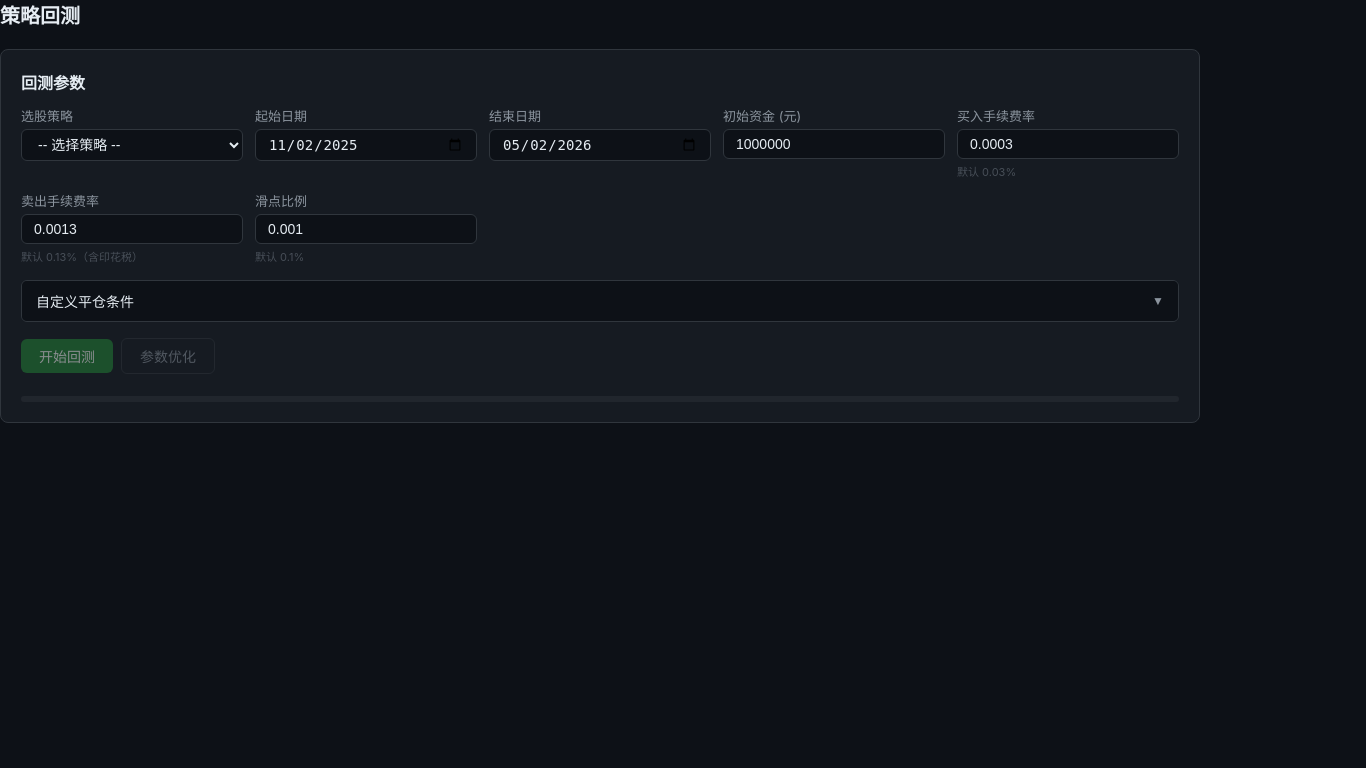
Test: BacktestView - 模版管理 › 点击"保存为模版"弹出保存对话框
Click the button "自定义平仓条件 ▼" at {"x": 85, "y": 302}, box top-left (22, 281), bottom-right (1178, 321)
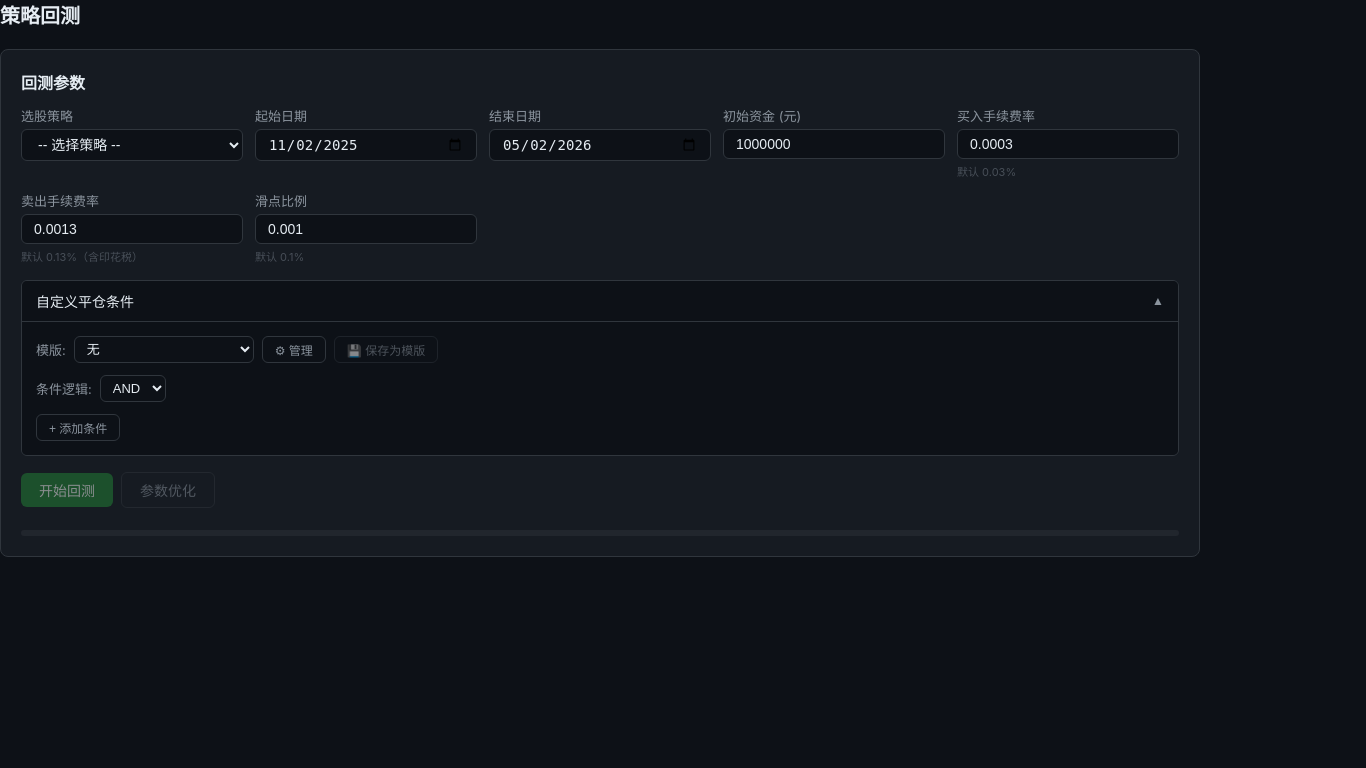
Click the button with aria-label "添加平仓条件" at {"x": 78, "y": 428}, box top-left (36, 414), bottom-right (120, 441)
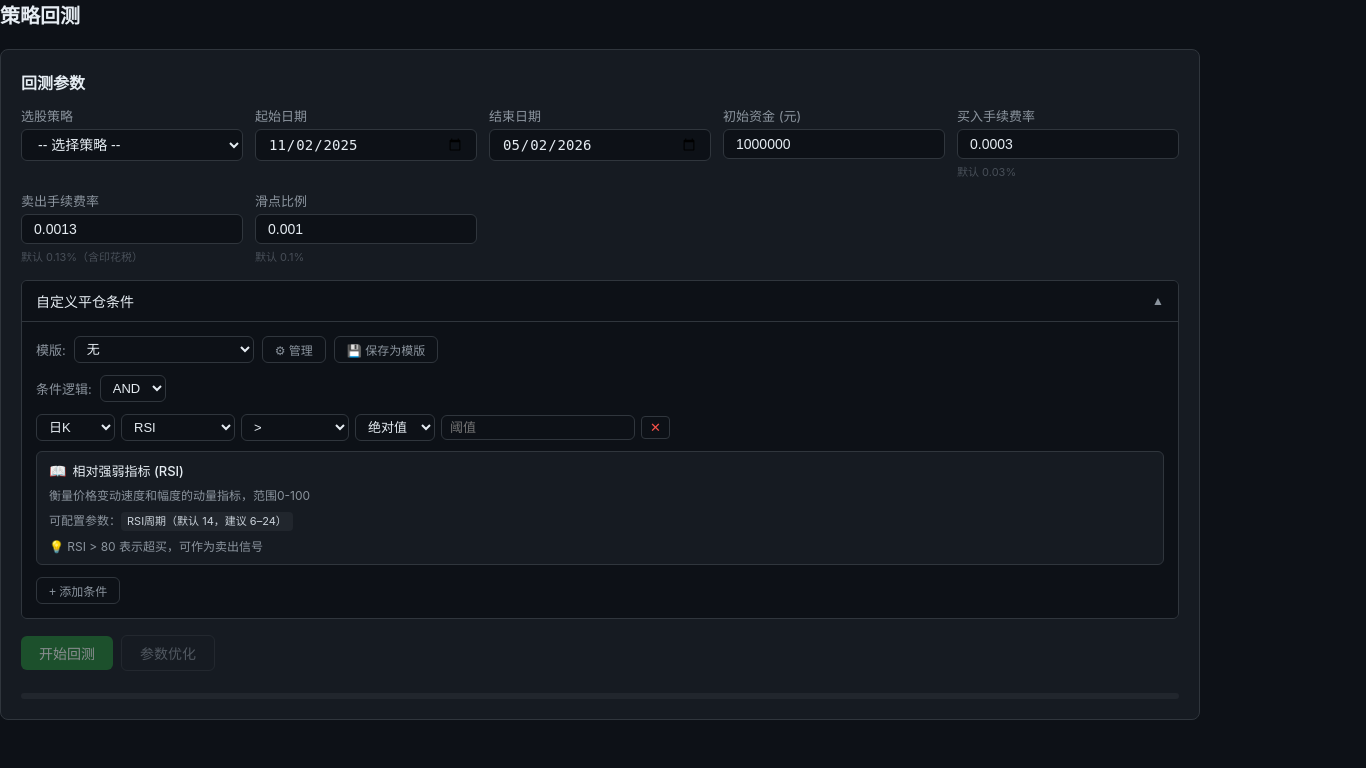
Click the button with aria-label "保存为模版" at {"x": 386, "y": 350}, box top-left (334, 336), bottom-right (438, 363)
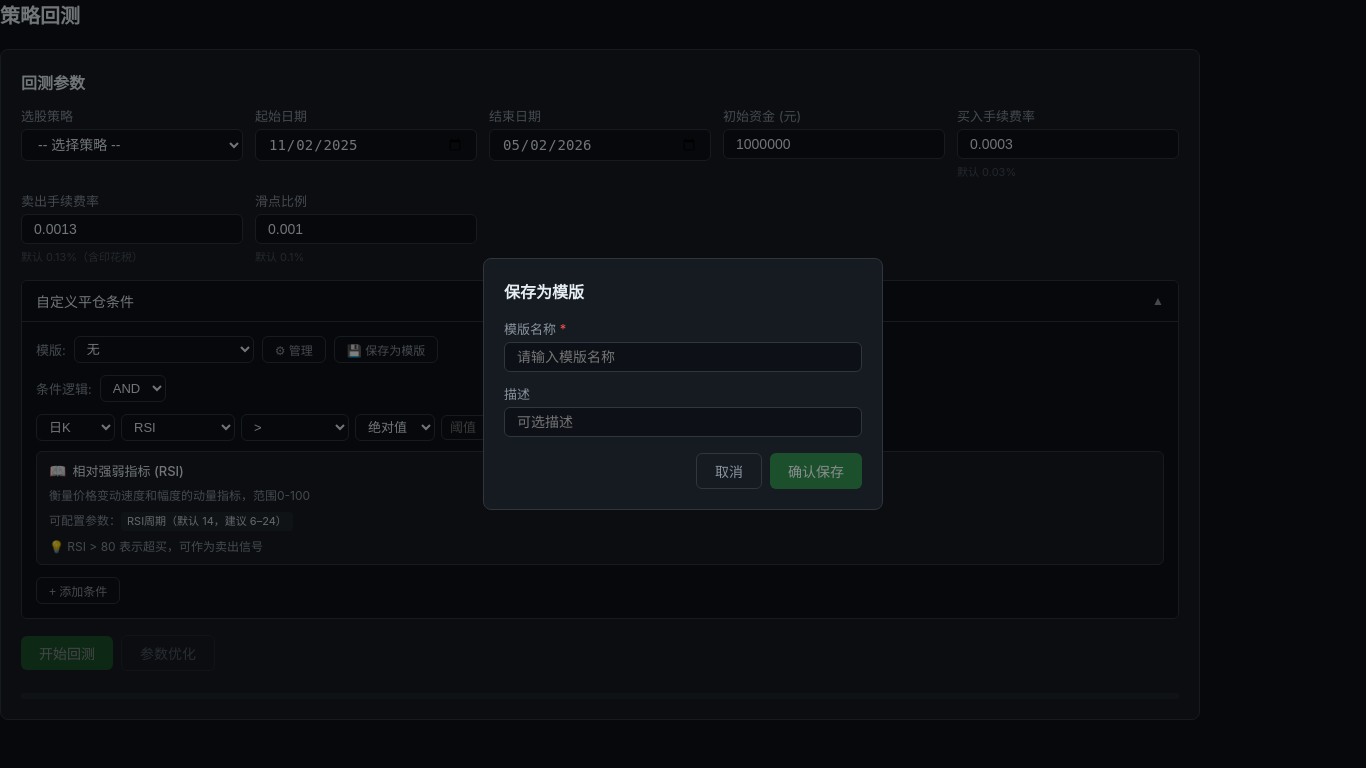
Result: the dialog named "保存为模版" is shown at top-left (483, 258), bottom-right (883, 510)
Result: the field with id "tpl-name" is shown at top-left (504, 342), bottom-right (862, 372)
Result: the field with id "tpl-desc" is shown at top-left (504, 407), bottom-right (862, 437)
